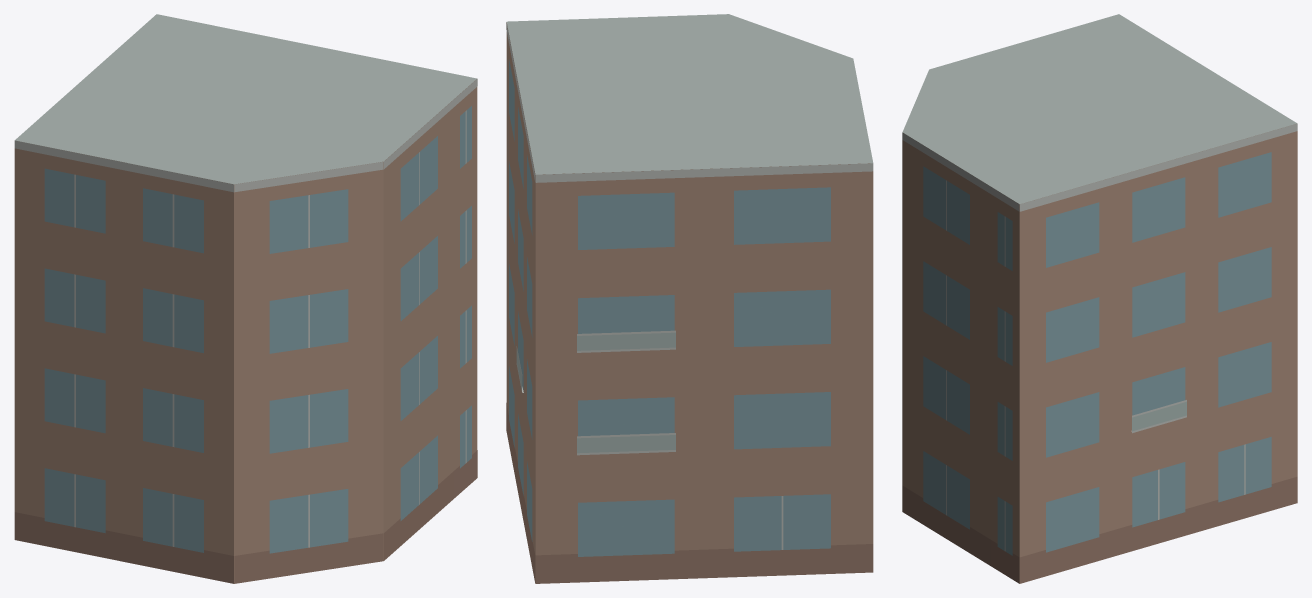
File: residential-c56ce68f-c7db-42c9-86cb-c740dbb1ad43.glb
The picture shows the model from 3 angles, left to right: view 1: azimuth 30°, elevation 25°; view 2: azimuth 150°, elevation 25°; view 3: azimuth 270°, elevation 25°; orthographic projection. The views are drawn at different scales.
Parts seen in each view (by area): view 1: residential-c56ce68f-c7db-42c9-86cb-c740dbb1ad43.tmp; view 2: residential-c56ce68f-c7db-42c9-86cb-c740dbb1ad43.tmp; view 3: residential-c56ce68f-c7db-42c9-86cb-c740dbb1ad43.tmp.
Part boxes in pixels (box(x1,y1,x2,y2)): residential-c56ce68f-c7db-42c9-86cb-c740dbb1ad43.tmp: box(14, 14, 477, 583); residential-c56ce68f-c7db-42c9-86cb-c740dbb1ad43.tmp: box(506, 14, 873, 583); residential-c56ce68f-c7db-42c9-86cb-c740dbb1ad43.tmp: box(902, 14, 1297, 583).
Bounding box in the file's own units: 13.13 × 12.2 × 11.52.
